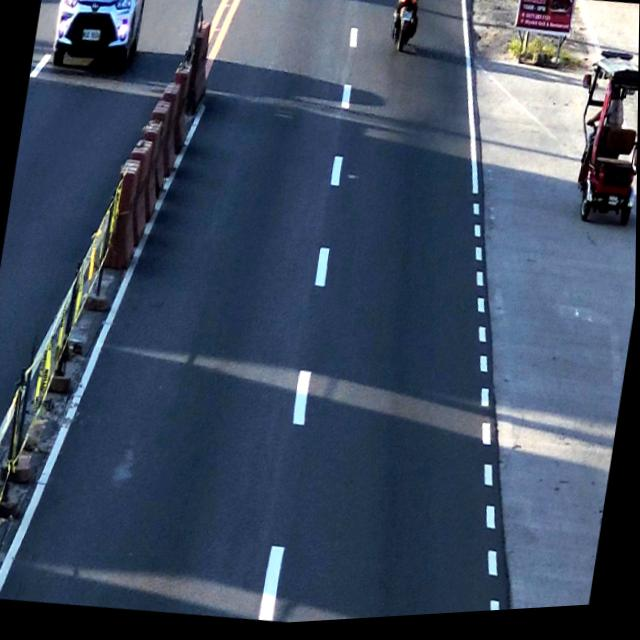Motorcycle: (385, 0, 424, 57)
